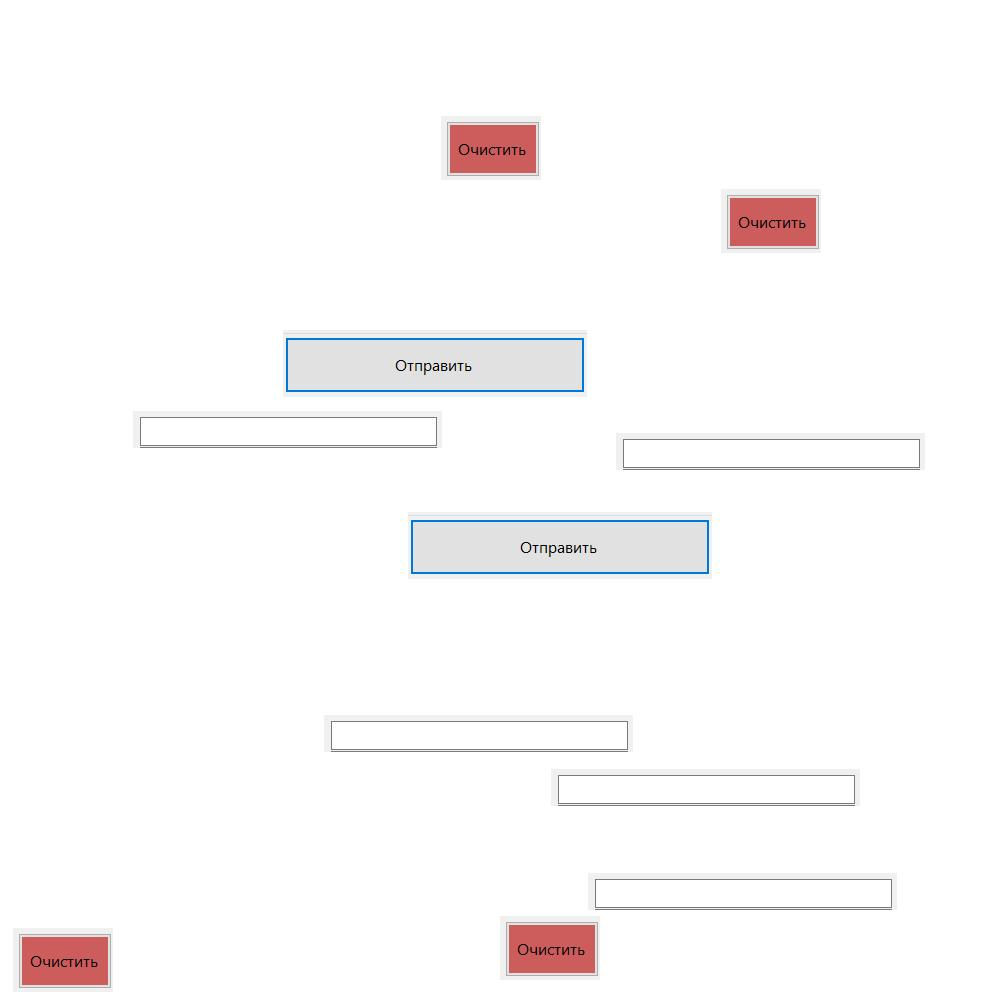Button: (283, 330, 587, 397), (408, 512, 712, 579), (13, 928, 113, 992), (721, 189, 821, 253), (441, 116, 541, 180), (500, 916, 600, 980)
EditText-: (551, 769, 860, 806), (324, 715, 633, 752), (588, 873, 897, 910), (616, 433, 925, 470), (133, 411, 442, 448)
